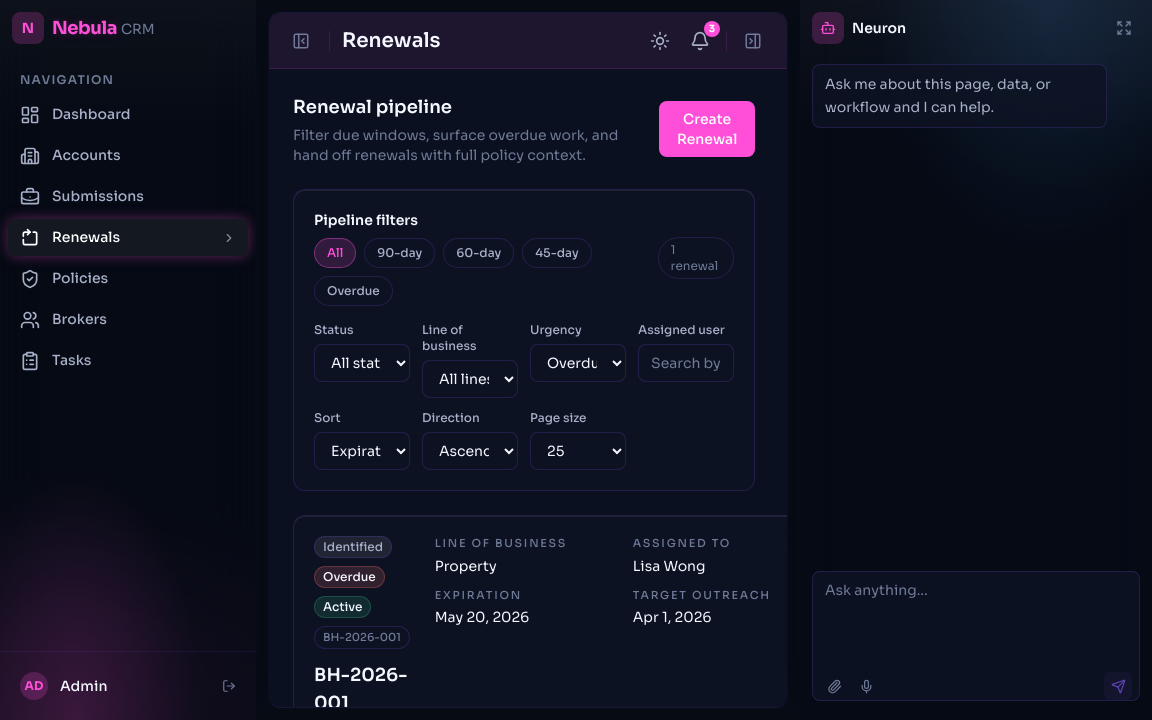
it: RenewalsPage integration › loads overdue renewals and creates a new renewal that navigates to detail
Check: the heading "Renewal pipeline" is shown, box [293, 96, 452, 118]
Check: the text "1 renewal" is shown, box [658, 237, 734, 279]
Click the button "Create Renewal" at coordinates (707, 129), box [659, 101, 755, 157]
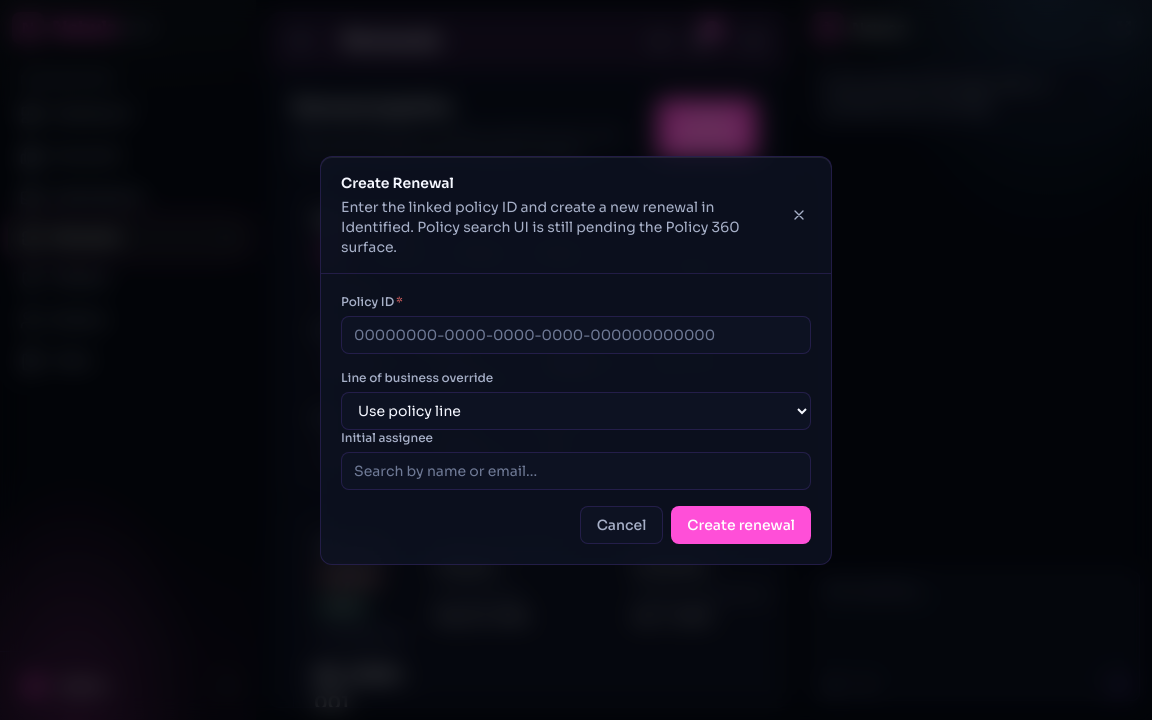
Type "policy-4" into the field labelled "Policy ID*" at coordinates (576, 334), box [341, 316, 811, 354]
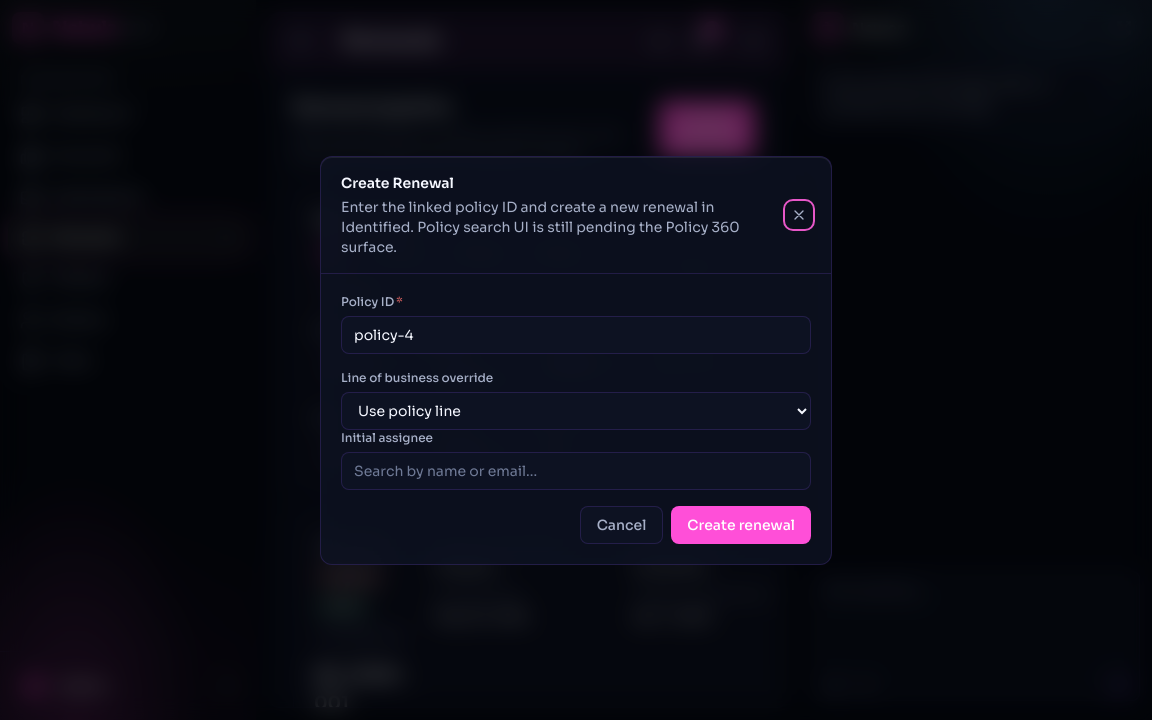
Click the button "Create renewal" at coordinates (741, 524), box [671, 506, 811, 544]
(page scrolled)
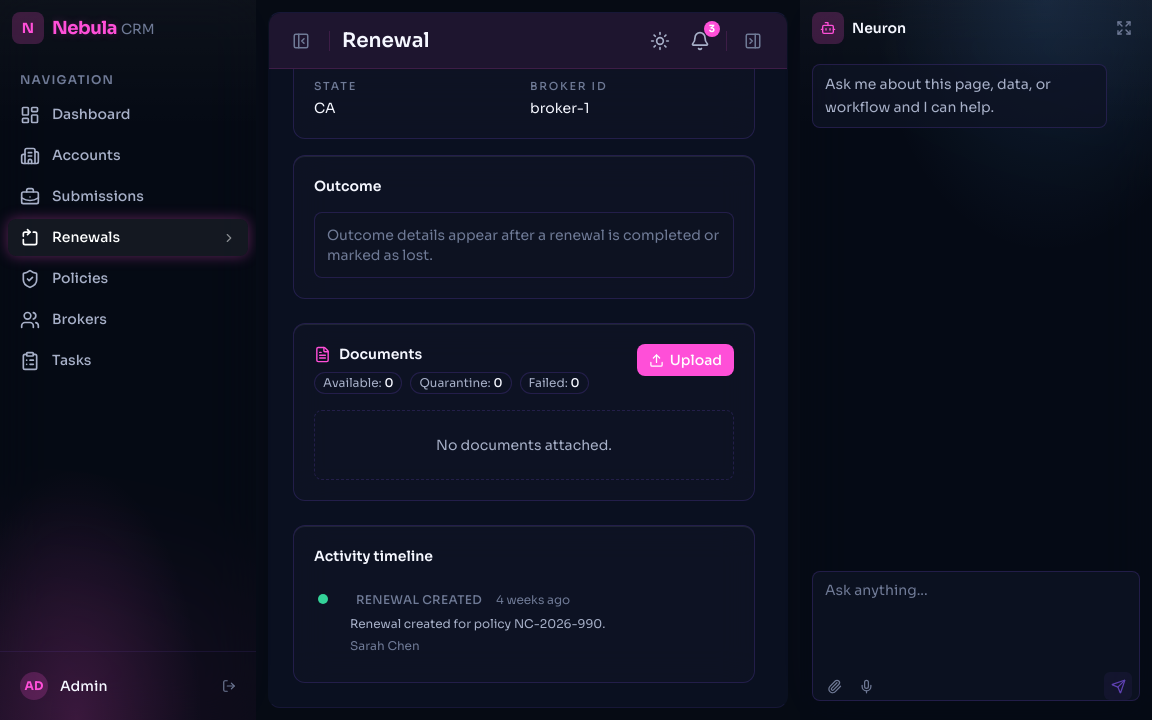
Check: the button "Create Renewal" is gone
Check: the text "Renewal created for policy NC-2026-990." is shown, box [350, 616, 605, 631]
